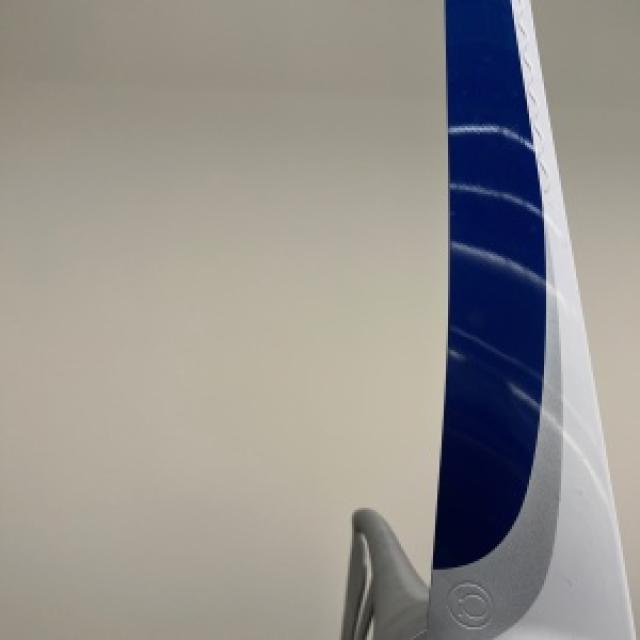healthy: (339, 0, 634, 638)
